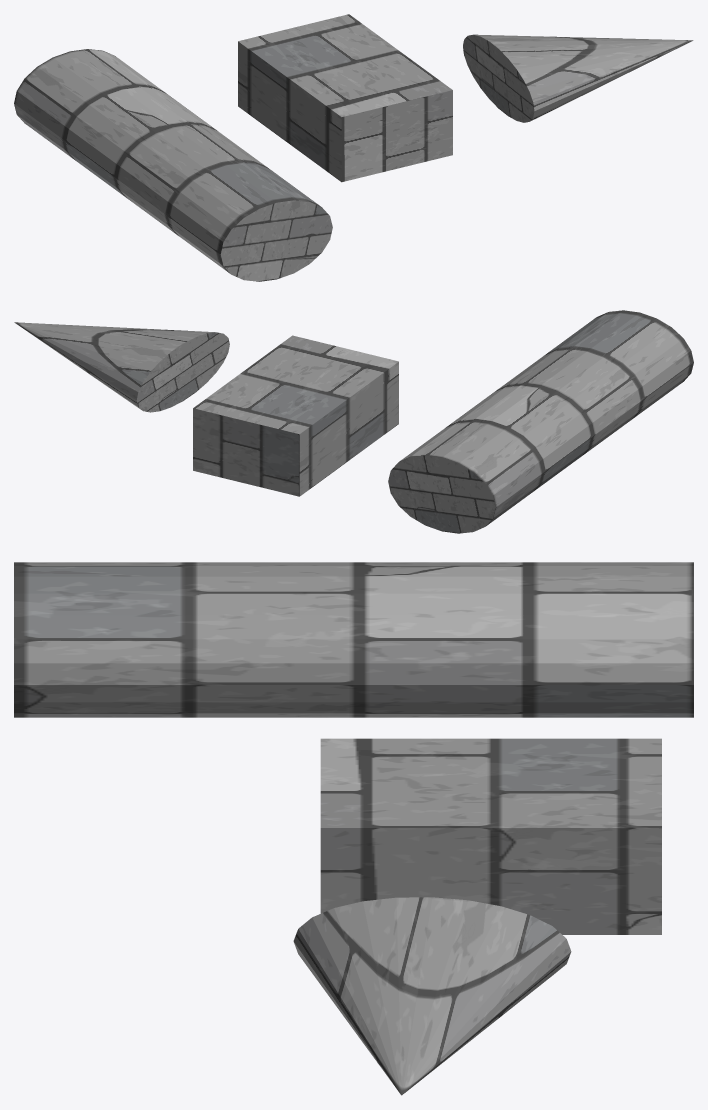
File: testcollision5.fbx
3 renders of one model, top to bottom at view 1: azimuth 30°, elevation 25°; view 2: azimuth 150°, elevation 25°; view 3: azimuth 270°, elevation 25°, orthographic. The views are drawn at different scales.
Visible parts, largest first — view 1: Mesh (3), Mesh (2), Mesh (4); view 2: Mesh (3), Mesh (2), Mesh (4); view 3: Mesh (3), Mesh (2), Mesh (4).
Part boxes in pixels (x1,y1,x2,y2): Mesh (3): (14, 49, 332, 281); Mesh (2): (238, 14, 452, 182); Mesh (4): (463, 34, 693, 122); Mesh (3): (388, 310, 693, 533); Mesh (2): (193, 335, 398, 496); Mesh (4): (14, 322, 229, 412); Mesh (3): (14, 562, 693, 717); Mesh (2): (320, 738, 661, 934); Mesh (4): (293, 897, 571, 1095).
Bounding box in the file's own units: 580 × 81 × 351.
